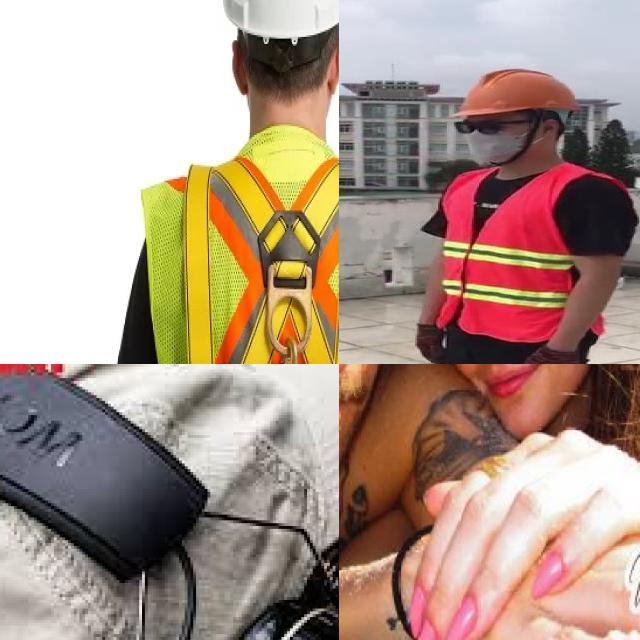Harness: (178, 159, 339, 364)
face_nomask: (413, 364, 579, 402)
hand_noglove: (401, 417, 640, 640)
head_helmet: (455, 66, 582, 118)
person: (389, 65, 640, 364)
vest: (436, 165, 609, 342)
